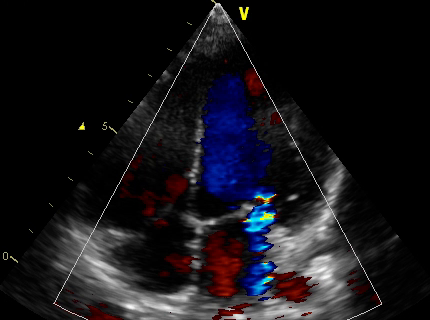MR: (202, 187, 282, 251)
